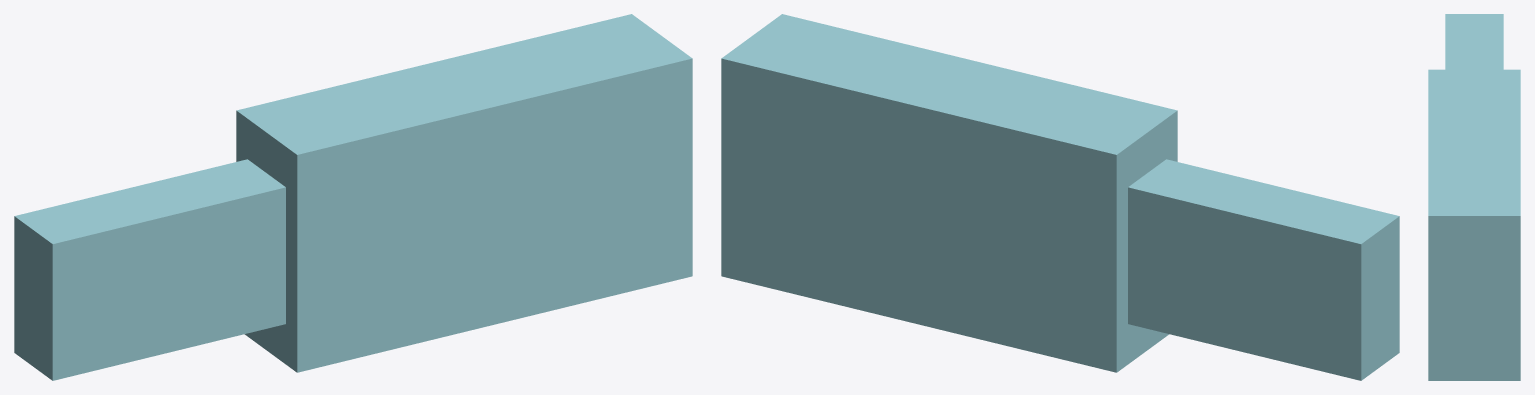
The model's file is cuboid_brush_v10015.obj.
3 renders of one model, left to right at view 1: azimuth 30°, elevation 25°; view 2: azimuth 150°, elevation 25°; view 3: azimuth 270°, elevation 25°, orthographic. The views are drawn at different scales.
Size of the model in its own units: 0.1856 by 0.0615 by 0.0311.
1 material, 1 textured.
